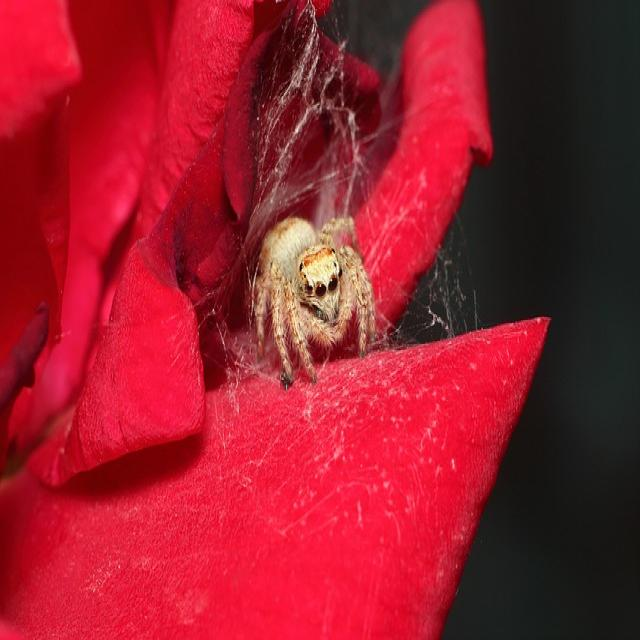spyder: (254, 218, 375, 388)
